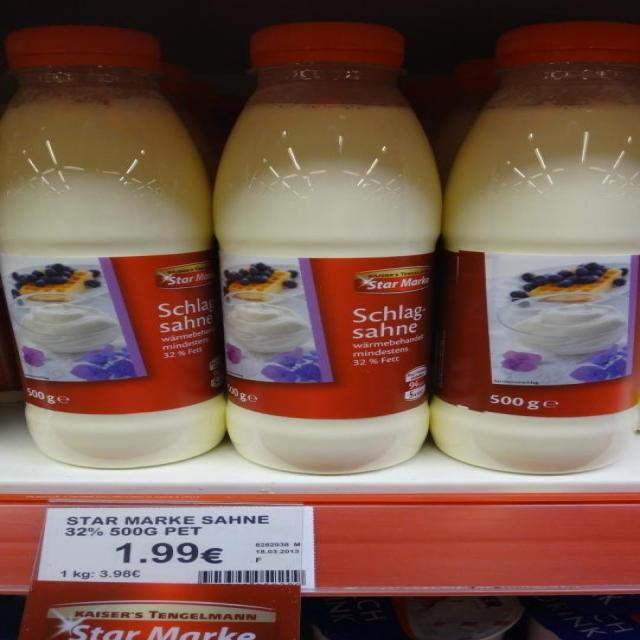Cream: (215, 22, 440, 474), (1, 26, 224, 468), (431, 22, 638, 474)
